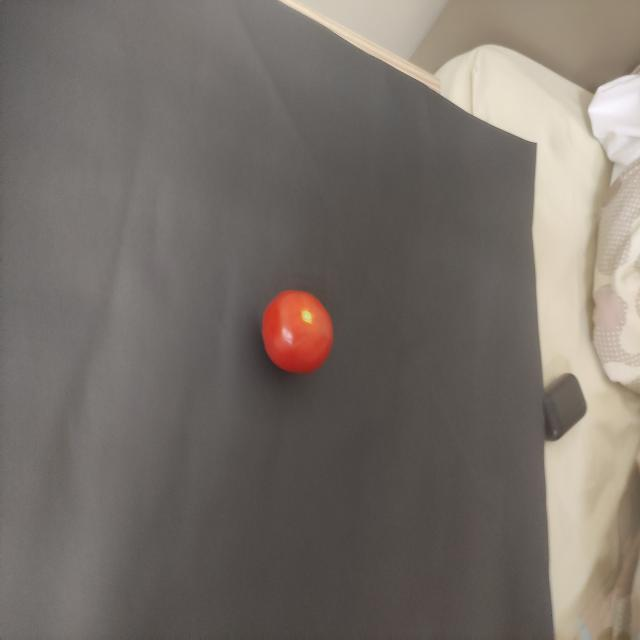kirmizi: (251, 266, 339, 382)
